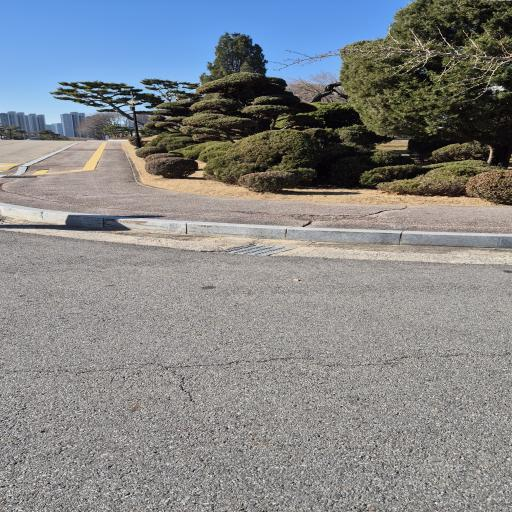drain: (225, 245, 295, 256)
